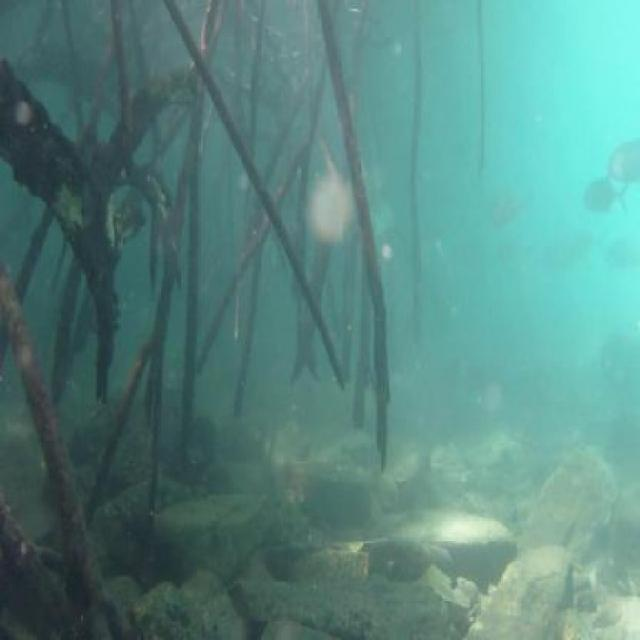Caranx_sexfasciatus_juvenile: (484, 178, 547, 233), (534, 230, 598, 282), (578, 166, 637, 222), (602, 229, 640, 286), (601, 138, 640, 183)
